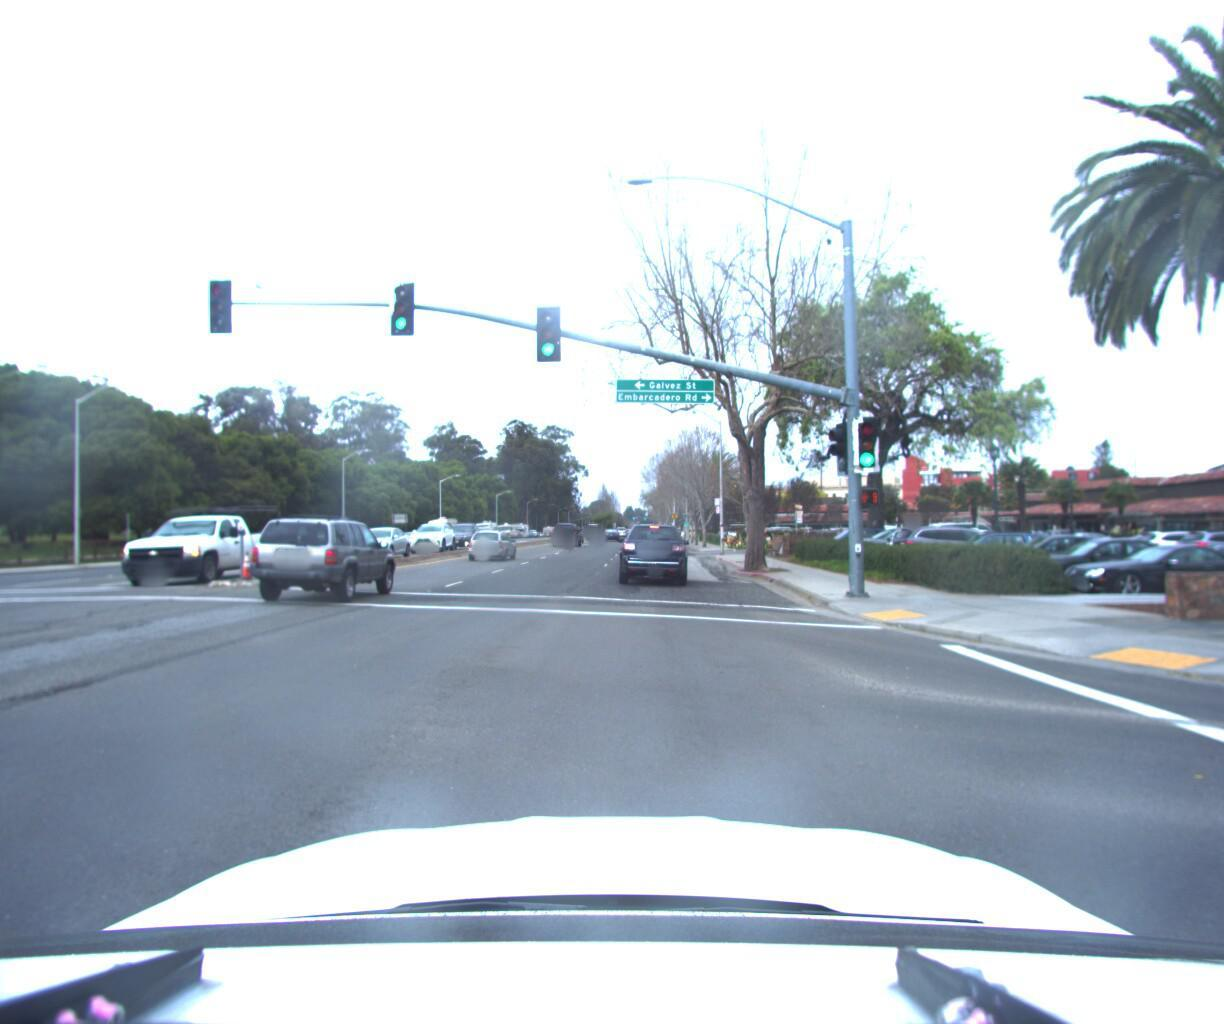car: (117, 502, 300, 591), (251, 515, 409, 610), (1001, 536, 1194, 596), (1048, 541, 1224, 605), (979, 535, 1138, 589), (884, 524, 1021, 576), (931, 529, 1067, 575), (620, 524, 691, 591), (842, 526, 954, 566), (807, 526, 896, 560), (350, 528, 418, 564), (410, 524, 463, 557), (469, 531, 521, 564), (445, 524, 489, 552), (556, 525, 588, 550)
